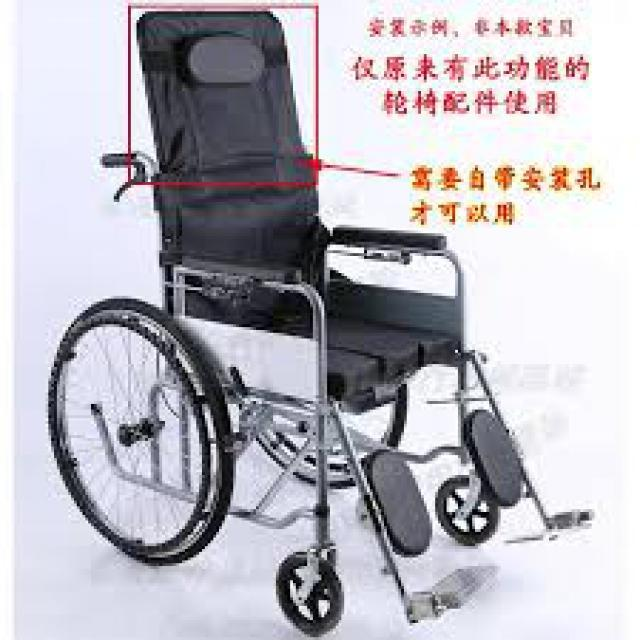wheelchair: (34, 8, 623, 634)
